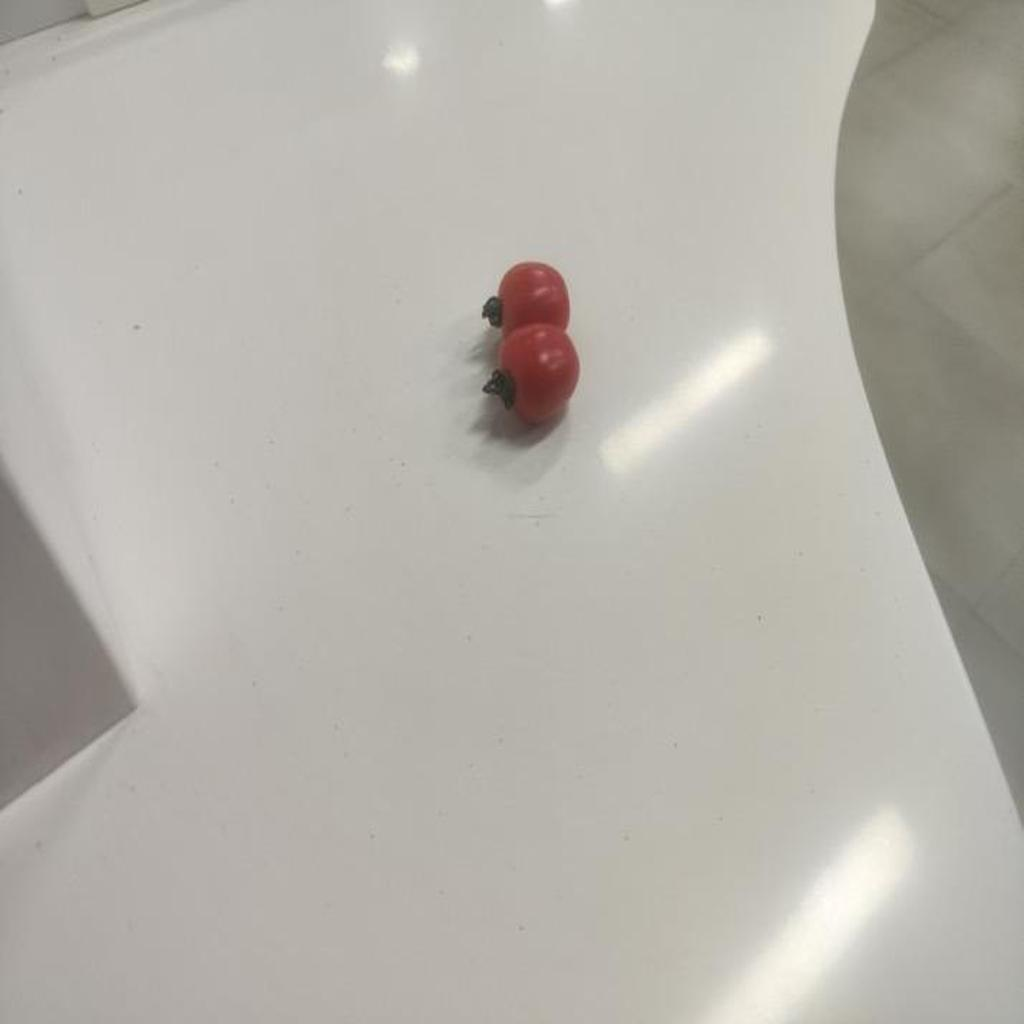tomato: (480, 327, 592, 433), (483, 262, 572, 339)
